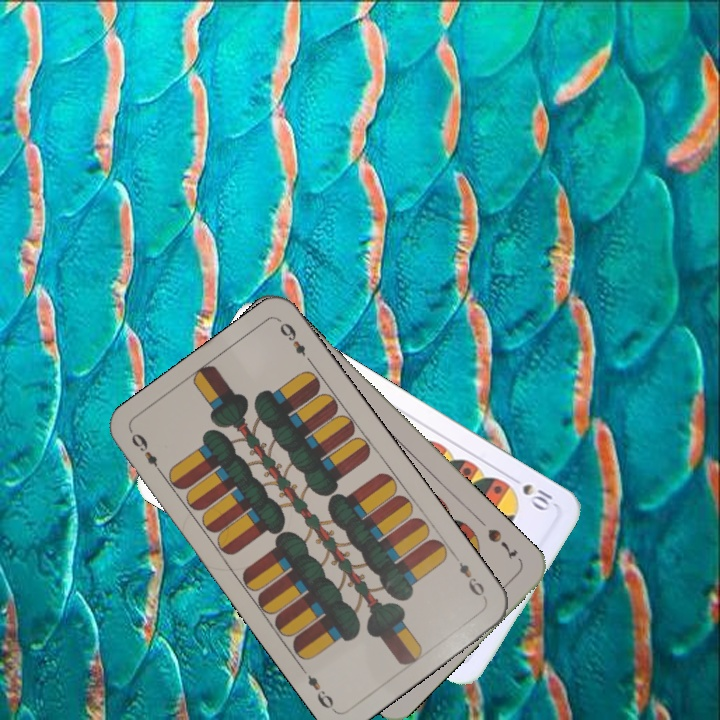E9: (127, 429, 167, 479), (454, 558, 489, 602)
S10: (505, 471, 558, 513)
S7: (483, 524, 521, 562)
